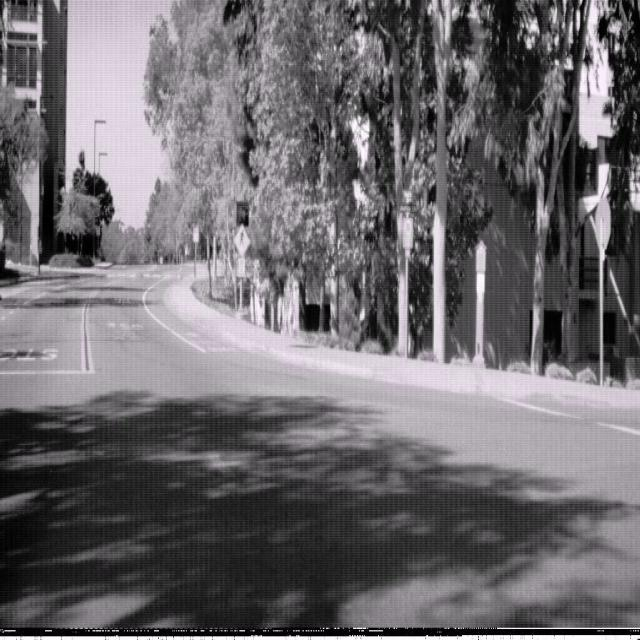pedestrianCrossing: (233, 222, 251, 257)
